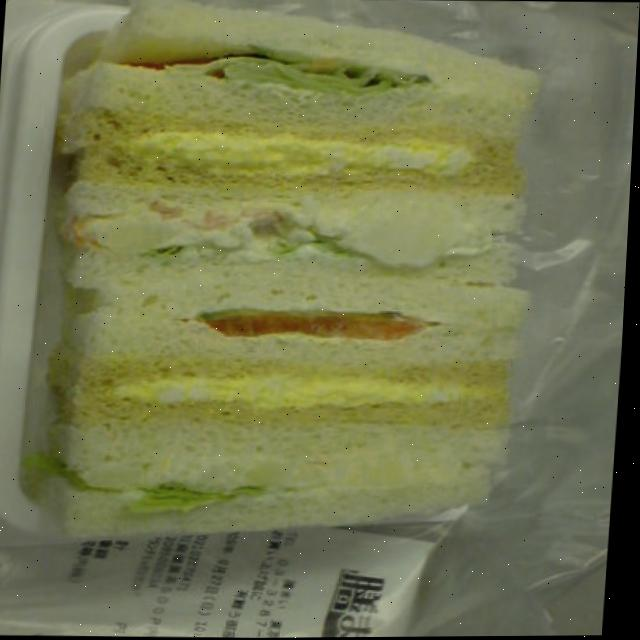三明治: (10, 0, 561, 573)
